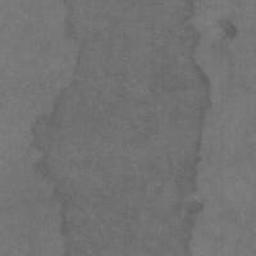Water spot: (31, 0, 214, 256), (216, 17, 238, 41)
